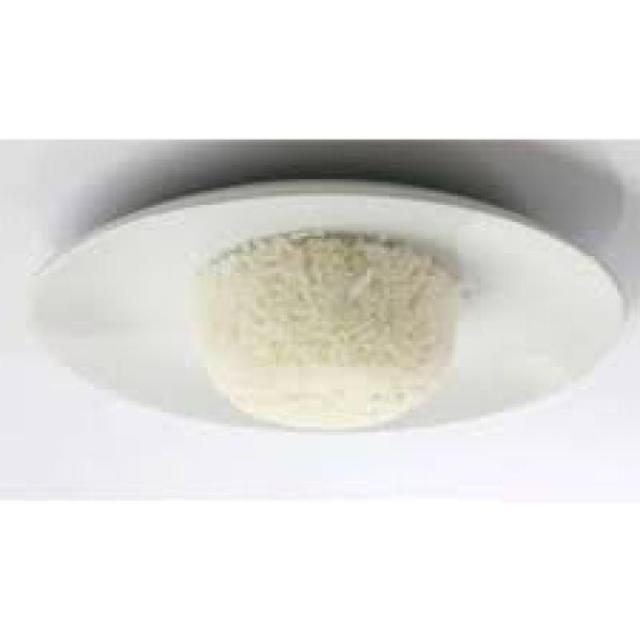nasi_putih: (190, 230, 460, 430)
